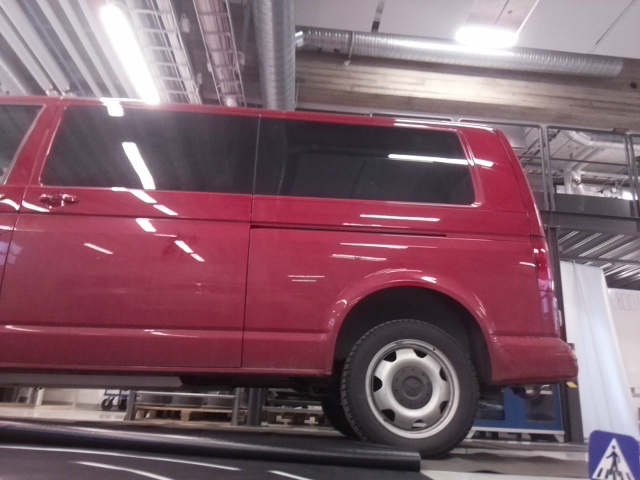Crosswalk: (587, 429, 639, 479)
